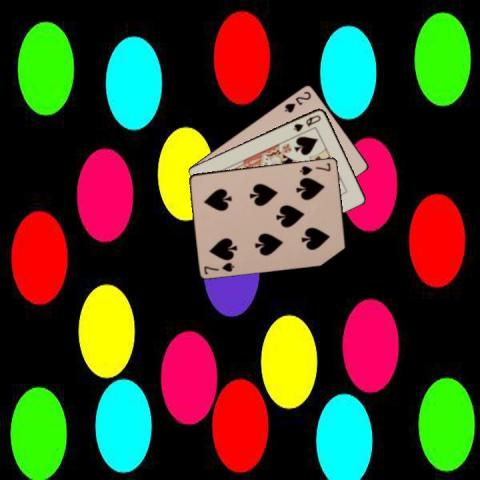2s: (281, 88, 313, 114)
7s: (297, 160, 332, 177), (201, 259, 236, 276)
Qs: (290, 112, 322, 133)
